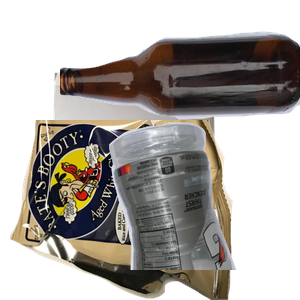glass: (60, 29, 300, 141)
paper: (50, 61, 257, 211)
plastic: (106, 120, 300, 300)
trash: (10, 120, 235, 300)
